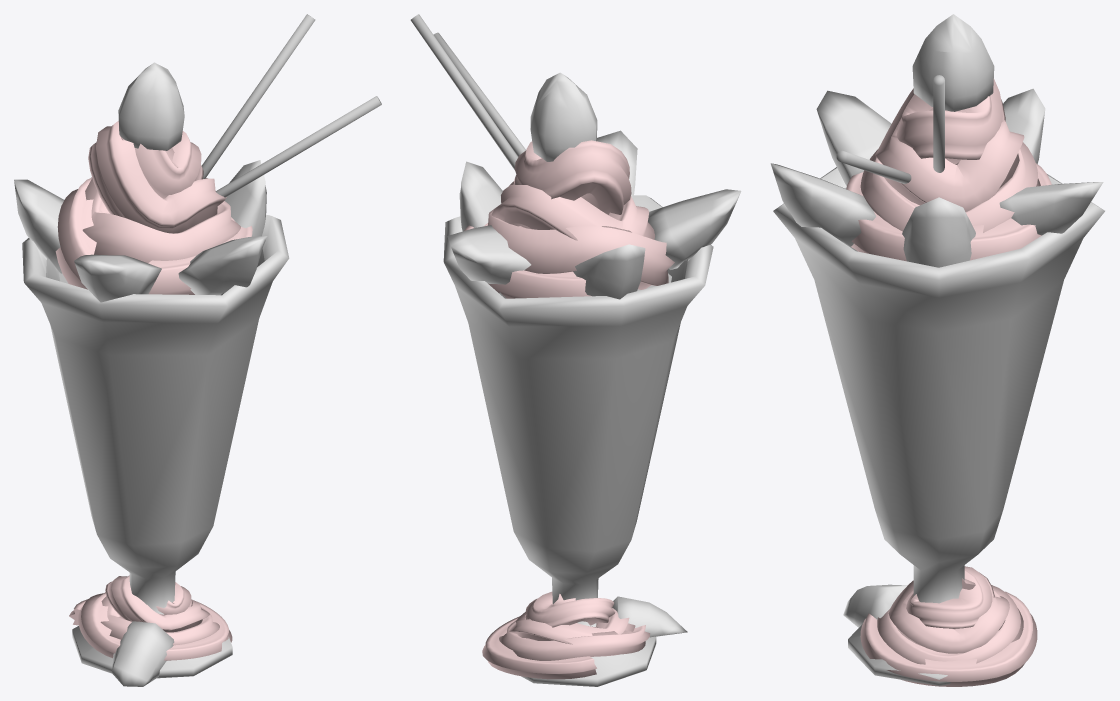
Rendered from Parfait.fbx.
3 views of the same model, side by side, from view 1: azimuth 30°, elevation 25°; view 2: azimuth 150°, elevation 25°; view 3: azimuth 270°, elevation 25° (orthographic). The views are drawn at different scales.
Parts seen in each view (by area): view 1: Glass, Cream, Strawberry, Debris_Cream, Pocky, Debris_Strawberry; view 2: Glass, Cream, Strawberry, Debris_Cream, Pocky, Debris_Strawberry; view 3: Glass, Strawberry, Cream, Debris_Cream, Pocky, Debris_Strawberry.
Part boxes in pixels (bbox=[...]): Glass: bbox=[22, 214, 289, 678]; Cream: bbox=[55, 121, 252, 294]; Strawberry: bbox=[14, 62, 267, 302]; Debris_Cream: bbox=[69, 575, 232, 660]; Pocky: bbox=[202, 14, 381, 197]; Debris_Strawberry: bbox=[111, 621, 174, 686]; Glass: bbox=[443, 195, 713, 686]; Cream: bbox=[464, 140, 674, 298]; Strawberry: bbox=[447, 72, 741, 299]; Debris_Cream: bbox=[482, 591, 650, 679]; Pocky: bbox=[410, 14, 525, 169]; Debris_Strawberry: bbox=[612, 596, 687, 637]; Glass: bbox=[773, 167, 1104, 685]; Strawberry: bbox=[770, 14, 1103, 267]; Cream: bbox=[846, 78, 1051, 261]; Debris_Cream: bbox=[860, 566, 1037, 686]; Pocky: bbox=[836, 75, 944, 183]; Debris_Strawberry: bbox=[843, 584, 907, 627].
Size of the model in its own units: 94.06 by 170 by 78.52.
